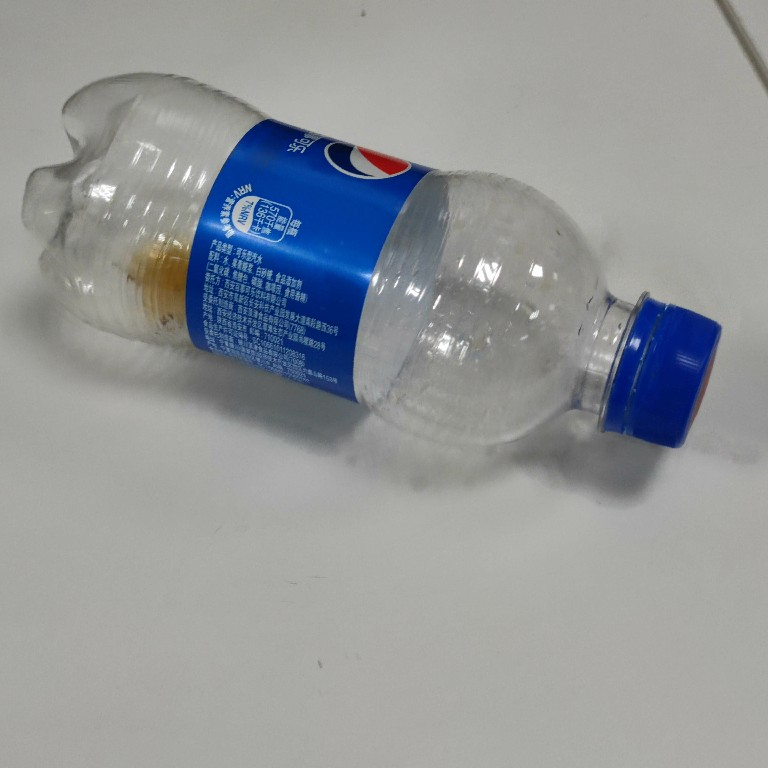bottle: (21, 68, 726, 465)
